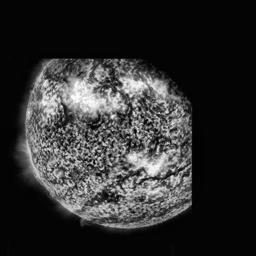solar flares: (72, 84, 104, 117), (41, 88, 58, 115), (122, 76, 146, 94), (126, 150, 145, 169), (148, 158, 165, 178), (150, 78, 168, 96), (110, 96, 125, 111)
sunspots: (51, 68, 92, 83), (86, 117, 110, 136), (144, 130, 164, 151), (97, 185, 113, 203), (63, 109, 74, 133)
